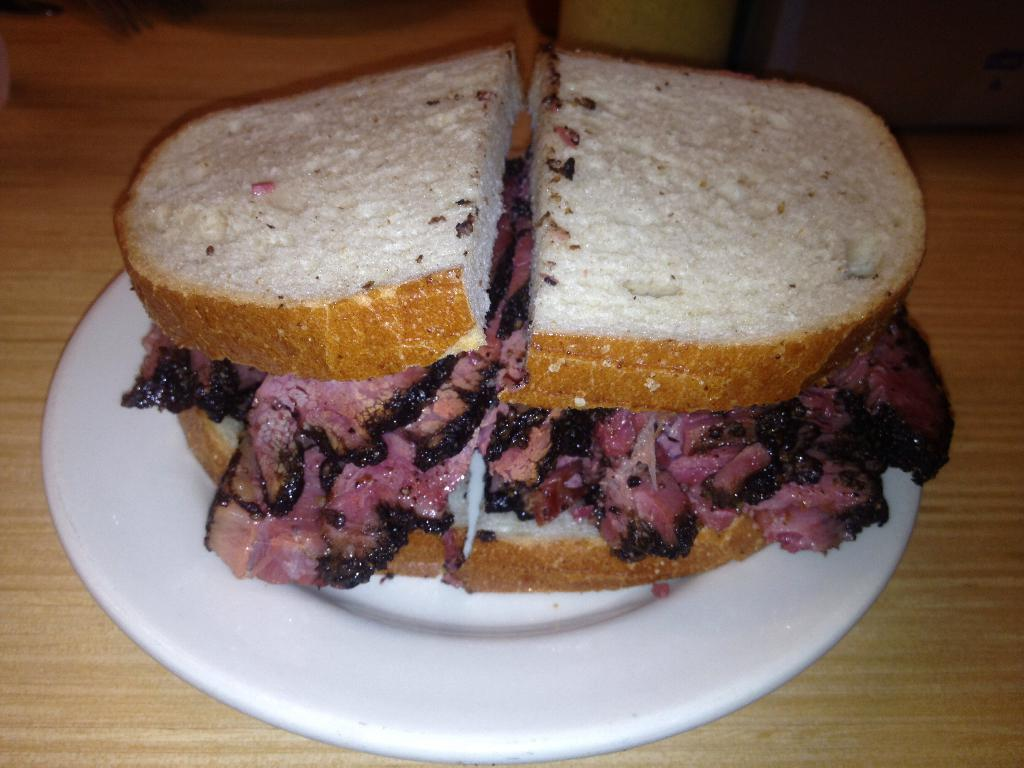sandwich: (110, 42, 954, 588)
